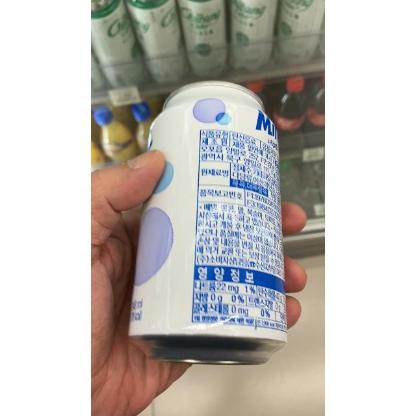Can: (126, 76, 290, 367)
